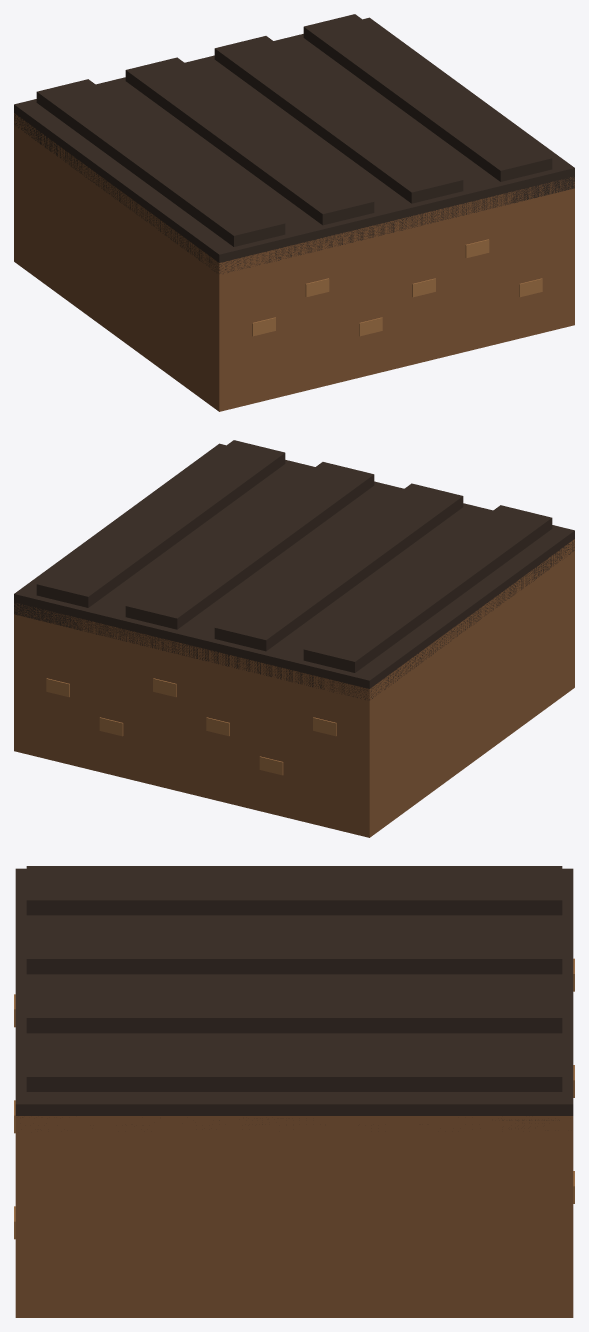
The model's file is farmland_wet.glb.
3 views of the same model, one above another, from view 1: azimuth 30°, elevation 25°; view 2: azimuth 150°, elevation 25°; view 3: azimuth 270°, elevation 25° (orthographic). The views are drawn at different scales.
Visible parts, largest first — view 1: farmland_wet_Mesh; view 2: farmland_wet_Mesh; view 3: farmland_wet_Mesh.
Boxes of the visible parts, <box> form: farmland_wet_Mesh: <box>14,14,574,411</box>; farmland_wet_Mesh: <box>14,440,574,837</box>; farmland_wet_Mesh: <box>14,866,574,1317</box>.
Bounding box in the file's own units: 1 × 0.4525 × 1.01.
